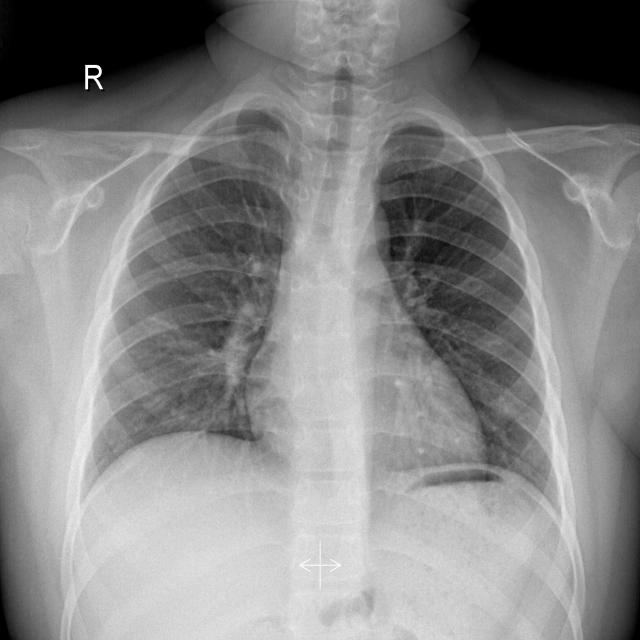no-pneumonia: (85, 96, 298, 490), (376, 112, 553, 492)
